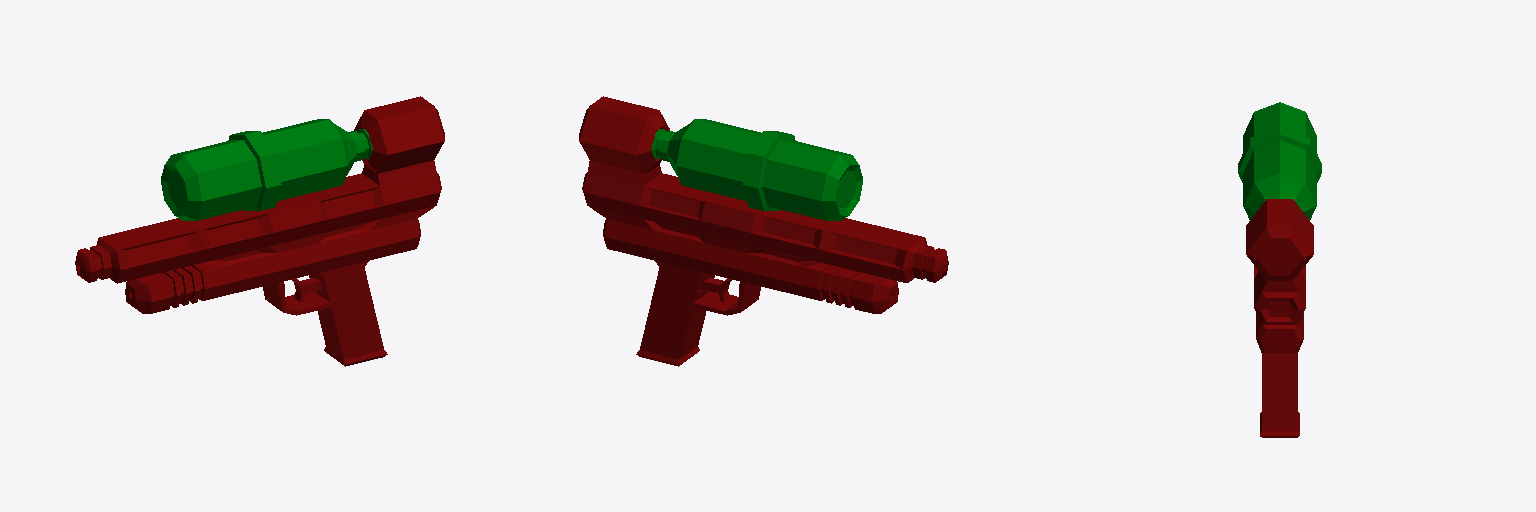
File: SquirtGun.obj
3 views of the same model, side by side, from view 1: azimuth 30°, elevation 25°; view 2: azimuth 150°, elevation 25°; view 3: azimuth 270°, elevation 25° (orthographic).
Visible parts, largest first — view 1: polySurface1; view 2: polySurface1; view 3: polySurface1.
Boxes of the visible parts, box(x1,y1,x2,y2) form: polySurface1: box(75, 96, 444, 366); polySurface1: box(579, 96, 948, 366); polySurface1: box(1238, 102, 1321, 437).
Bounding box in the file's own units: 11.28 × 7.53 × 2.33.